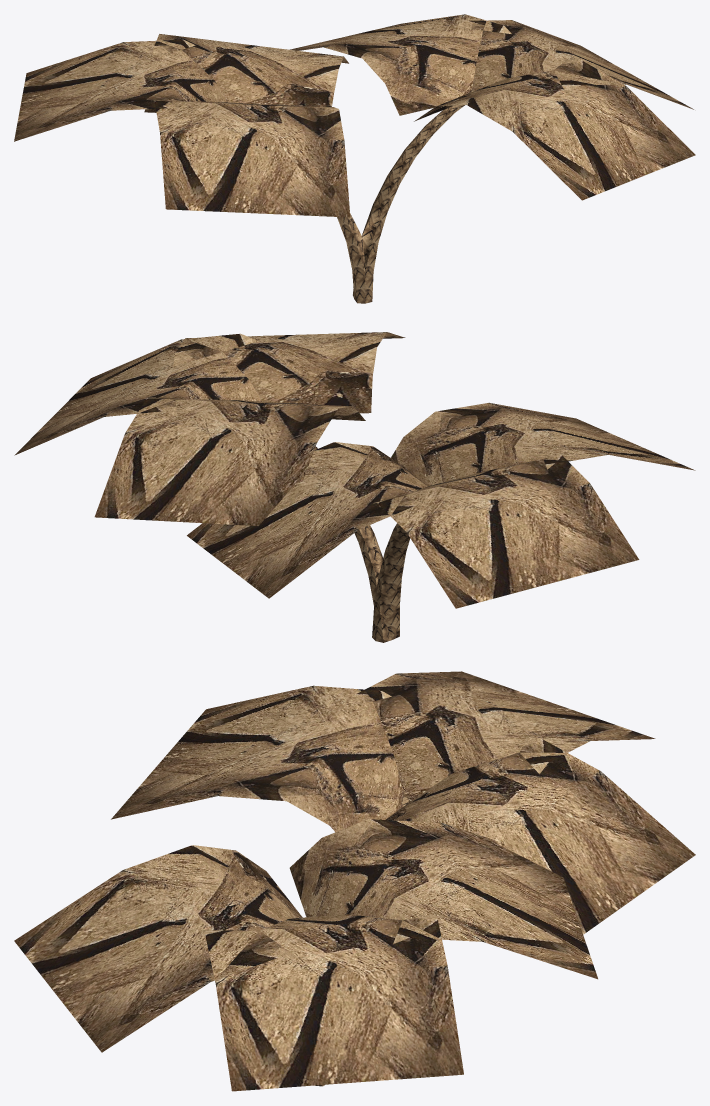
3 views of the same model, one above another, from view 1: azimuth 30°, elevation 25°; view 2: azimuth 150°, elevation 25°; view 3: azimuth 270°, elevation 25° (orthographic). The views are drawn at different scales.
Visible parts, largest first — view 1: 2_Cluster2, 1_Trunk; view 2: 2_Cluster2, 1_Trunk; view 3: 2_Cluster2.
Part boxes in pixels (left/top/right/bottom): 2_Cluster2: left=14, top=14, right=695, bottom=217; 1_Trunk: left=337, top=90, right=474, bottom=303; 2_Cluster2: left=14, top=332, right=695, bottom=608; 1_Trunk: left=314, top=446, right=410, bottom=642; 2_Cluster2: left=14, top=671, right=695, bottom=1091.
Size of the model in its own units: 133 by 47.7 by 106.
1 material, 1 textured.
